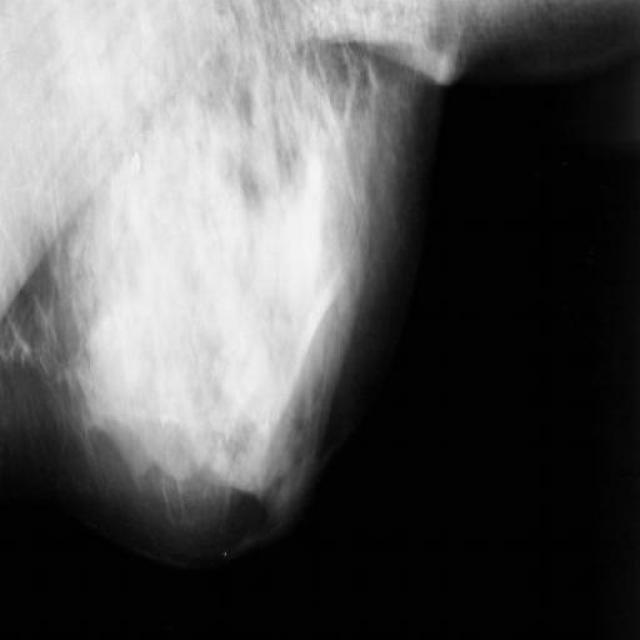cancer: (282, 66, 318, 150)
